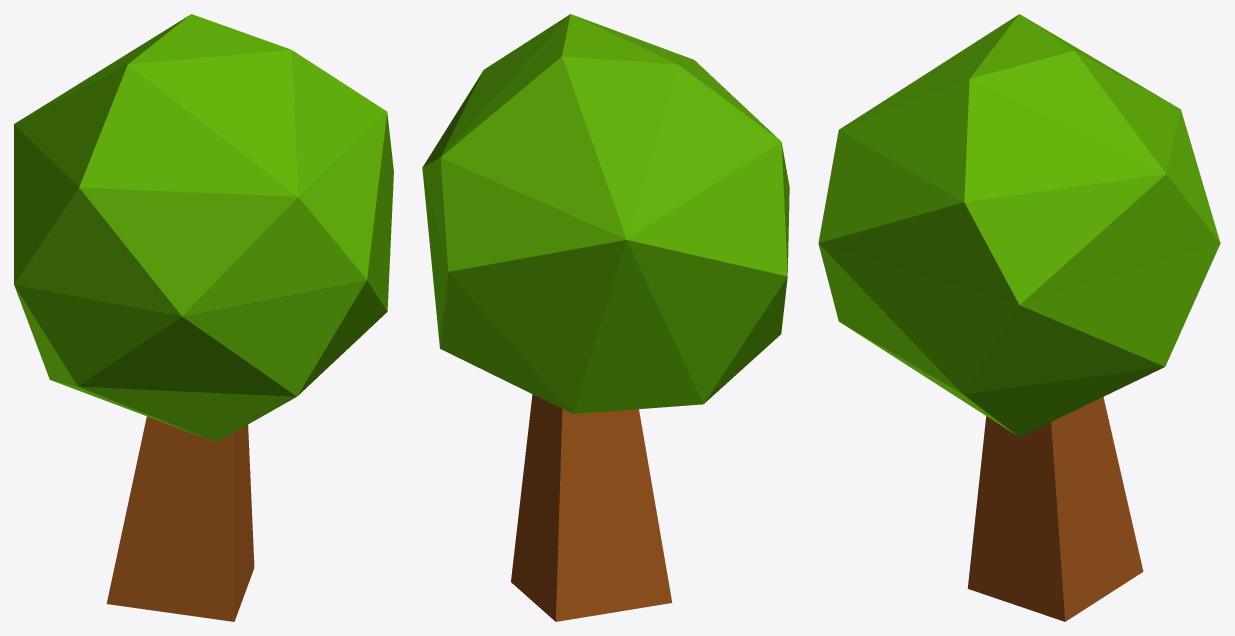
File: tree3.fbx
The picture shows the model from 3 angles, left to right: view 1: azimuth 30°, elevation 25°; view 2: azimuth 150°, elevation 25°; view 3: azimuth 270°, elevation 25°; orthographic projection. The views are drawn at different scales.
Parts seen in each view (by area): view 1: Cube; view 2: Cube; view 3: Cube.
Part boxes in pixels (<box>): Cube: <box>14,14,393,621</box>; Cube: <box>422,14,789,621</box>; Cube: <box>818,14,1220,621</box>.
Size of the model in its own units: 169 by 240 by 161.
